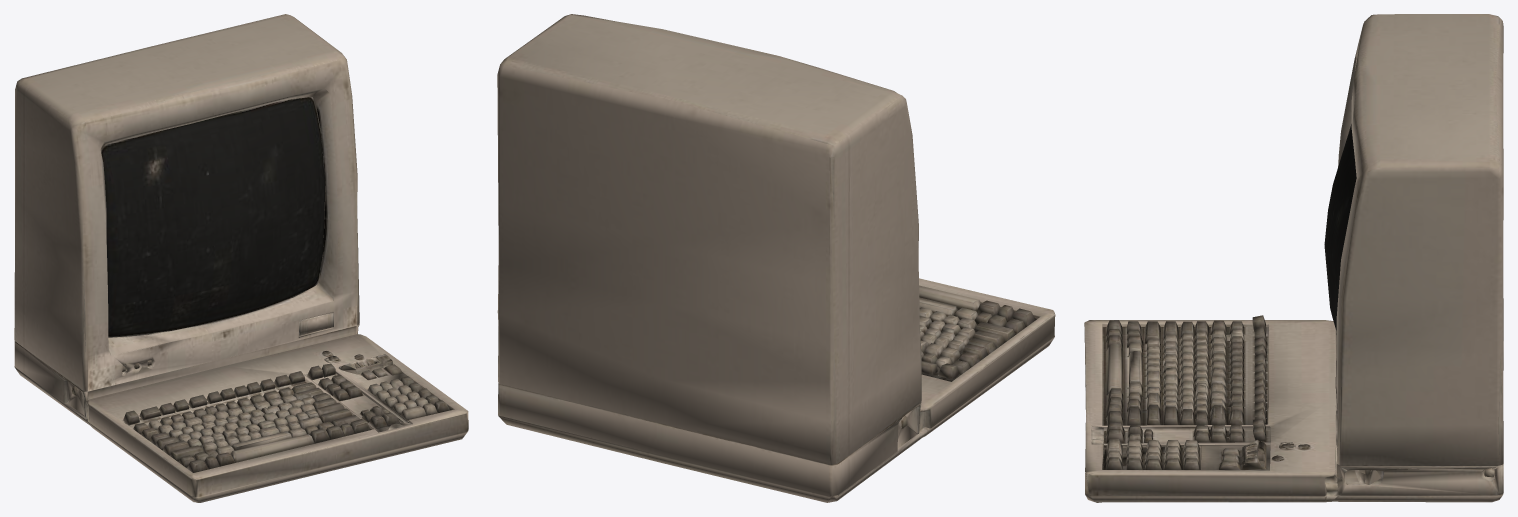
Rendered from p7-crt-terminal-t25.glb.
The picture shows the model from 3 angles, left to right: view 1: azimuth 30°, elevation 25°; view 2: azimuth 150°, elevation 25°; view 3: azimuth 270°, elevation 25°; orthographic projection. The views are drawn at different scales.
Visible parts, largest first — view 1: p7-crt-terminal-t25; view 2: p7-crt-terminal-t25; view 3: p7-crt-terminal-t25.
Part boxes in pixels (<box>): p7-crt-terminal-t25: <box>14,14,468,502</box>; p7-crt-terminal-t25: <box>497,14,1055,502</box>; p7-crt-terminal-t25: <box>1084,14,1503,502</box>.
Size of the model in its own units: 0.439 by 0.45 by 0.5.
1 material, 1 textured.
